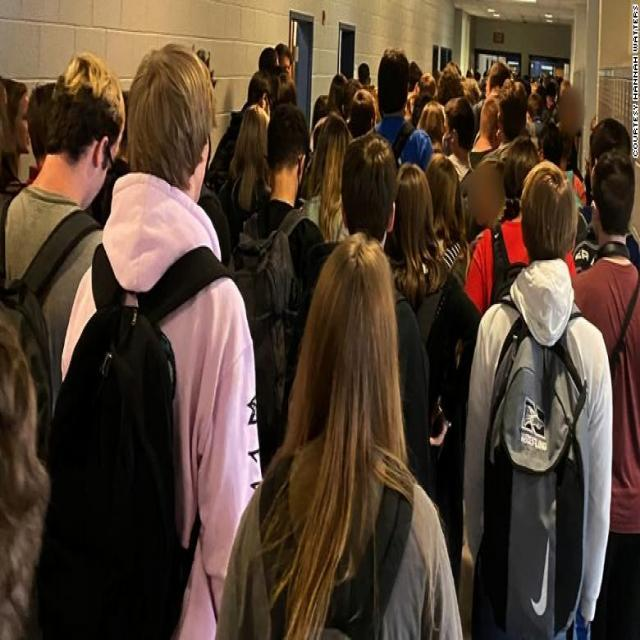Backpacks: (37, 293, 179, 640), (478, 324, 588, 640)
